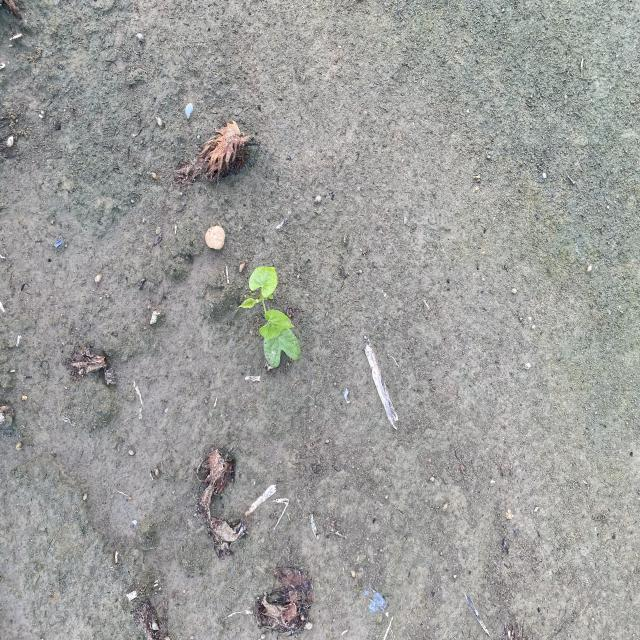MorningGlory: (237, 264, 302, 370)
